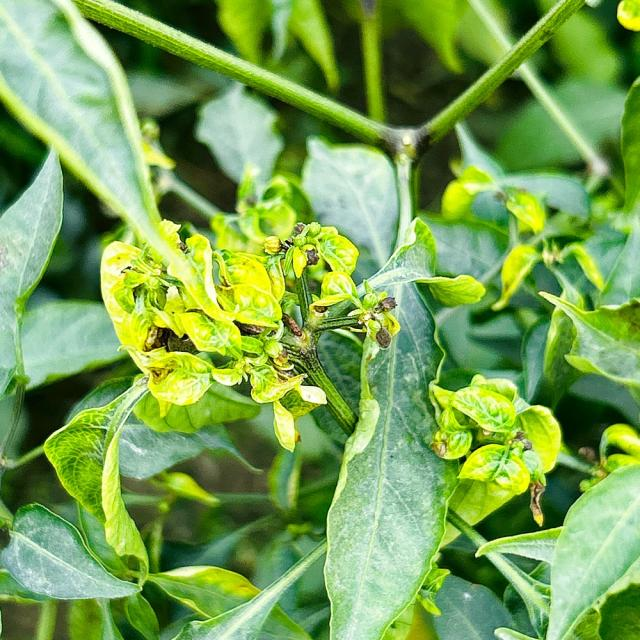Chilli_Leaf_Curl: (1, 1, 638, 638), (96, 214, 388, 452), (321, 215, 473, 638), (1, 0, 175, 266), (427, 372, 562, 528), (1, 501, 142, 601), (536, 288, 639, 403), (262, 220, 359, 280)
